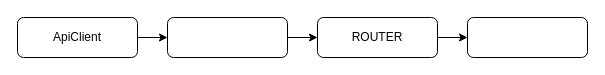
Some shapes in this 605 by 75 pixel diagram are drawn without their labels. The centre of each missing label's shape, as x and y in pixels:
API: (227,37)
ENDPOINT: (527,37)
